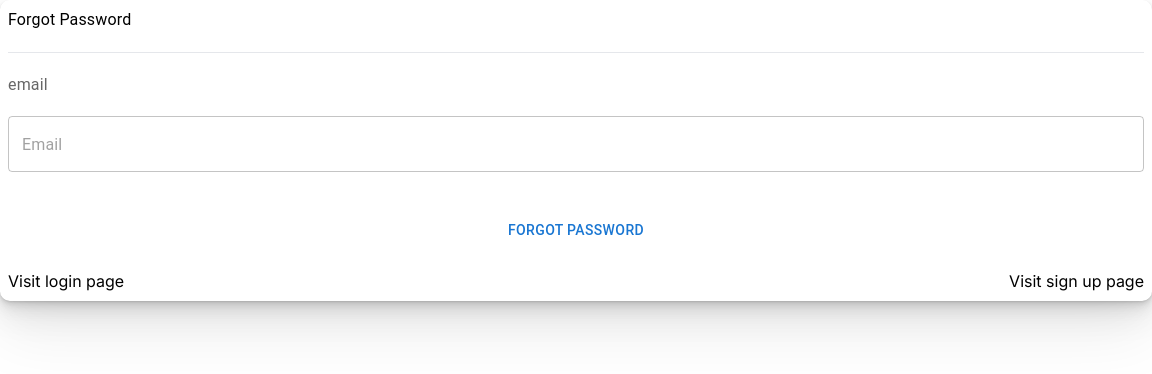
forgot password component › should displays validation error for invalid email format
In the field with placeholder "Email": (576, 144) [8, 116, 1144, 172], type "invalidemail"
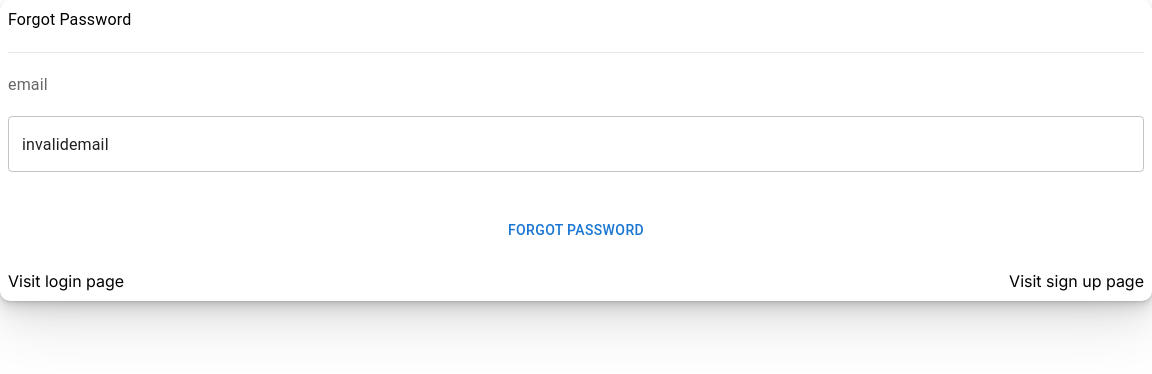
Click the button with test id "forgot-password-button": click(576, 230) [8, 212, 1144, 248]
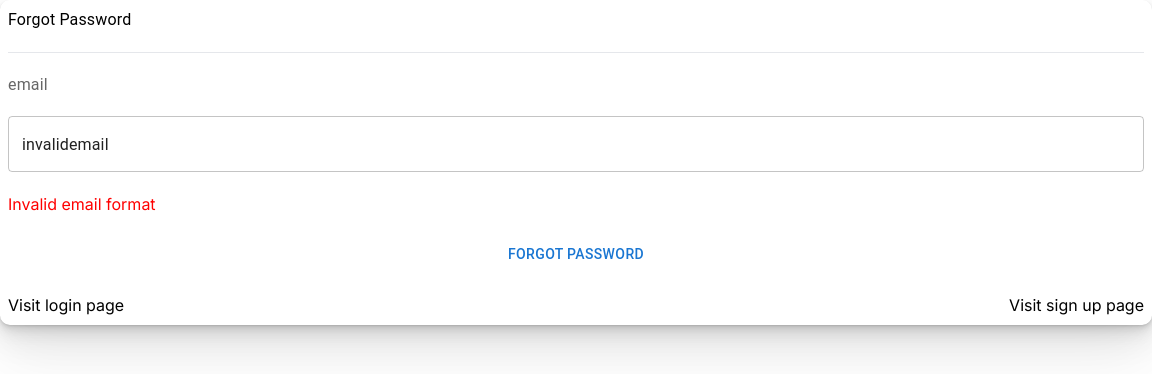
Check: the text "Invalid email format" is shown, box [8, 194, 156, 214]
